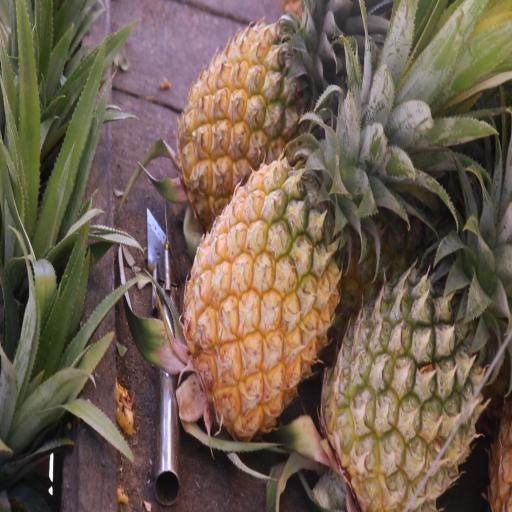Pineapple - v8 v1: (174, 131, 346, 446), (171, 4, 327, 227)
